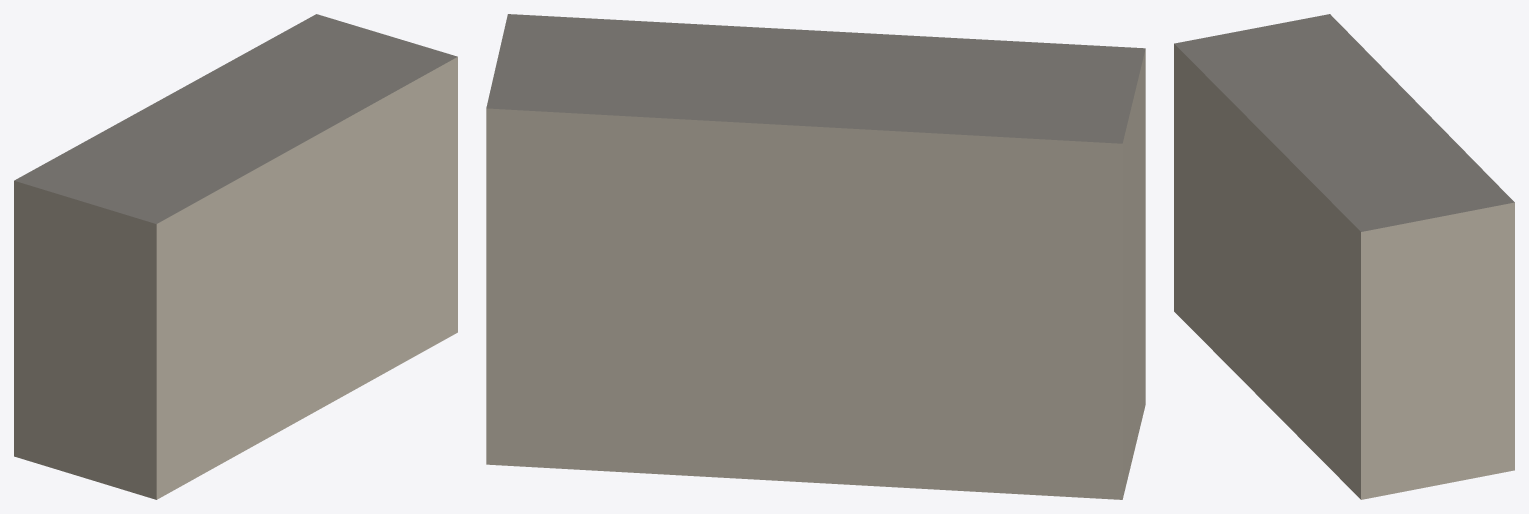
3 views of the same model, side by side, from view 1: azimuth 30°, elevation 25°; view 2: azimuth 150°, elevation 25°; view 3: azimuth 270°, elevation 25° (orthographic). The views are drawn at different scales.
Visible parts, largest first — view 1: HP-w505633360; view 2: HP-w505633360; view 3: HP-w505633360.
Boxes of the visible parts, x1=… form: HP-w505633360: x1=14, y1=14, x2=457, y2=499; HP-w505633360: x1=486, y1=14, x2=1145, y2=499; HP-w505633360: x1=1174, y1=14, x2=1514, y2=499.
Bounding box in the file's own units: 31.42 × 18 × 20.74.
